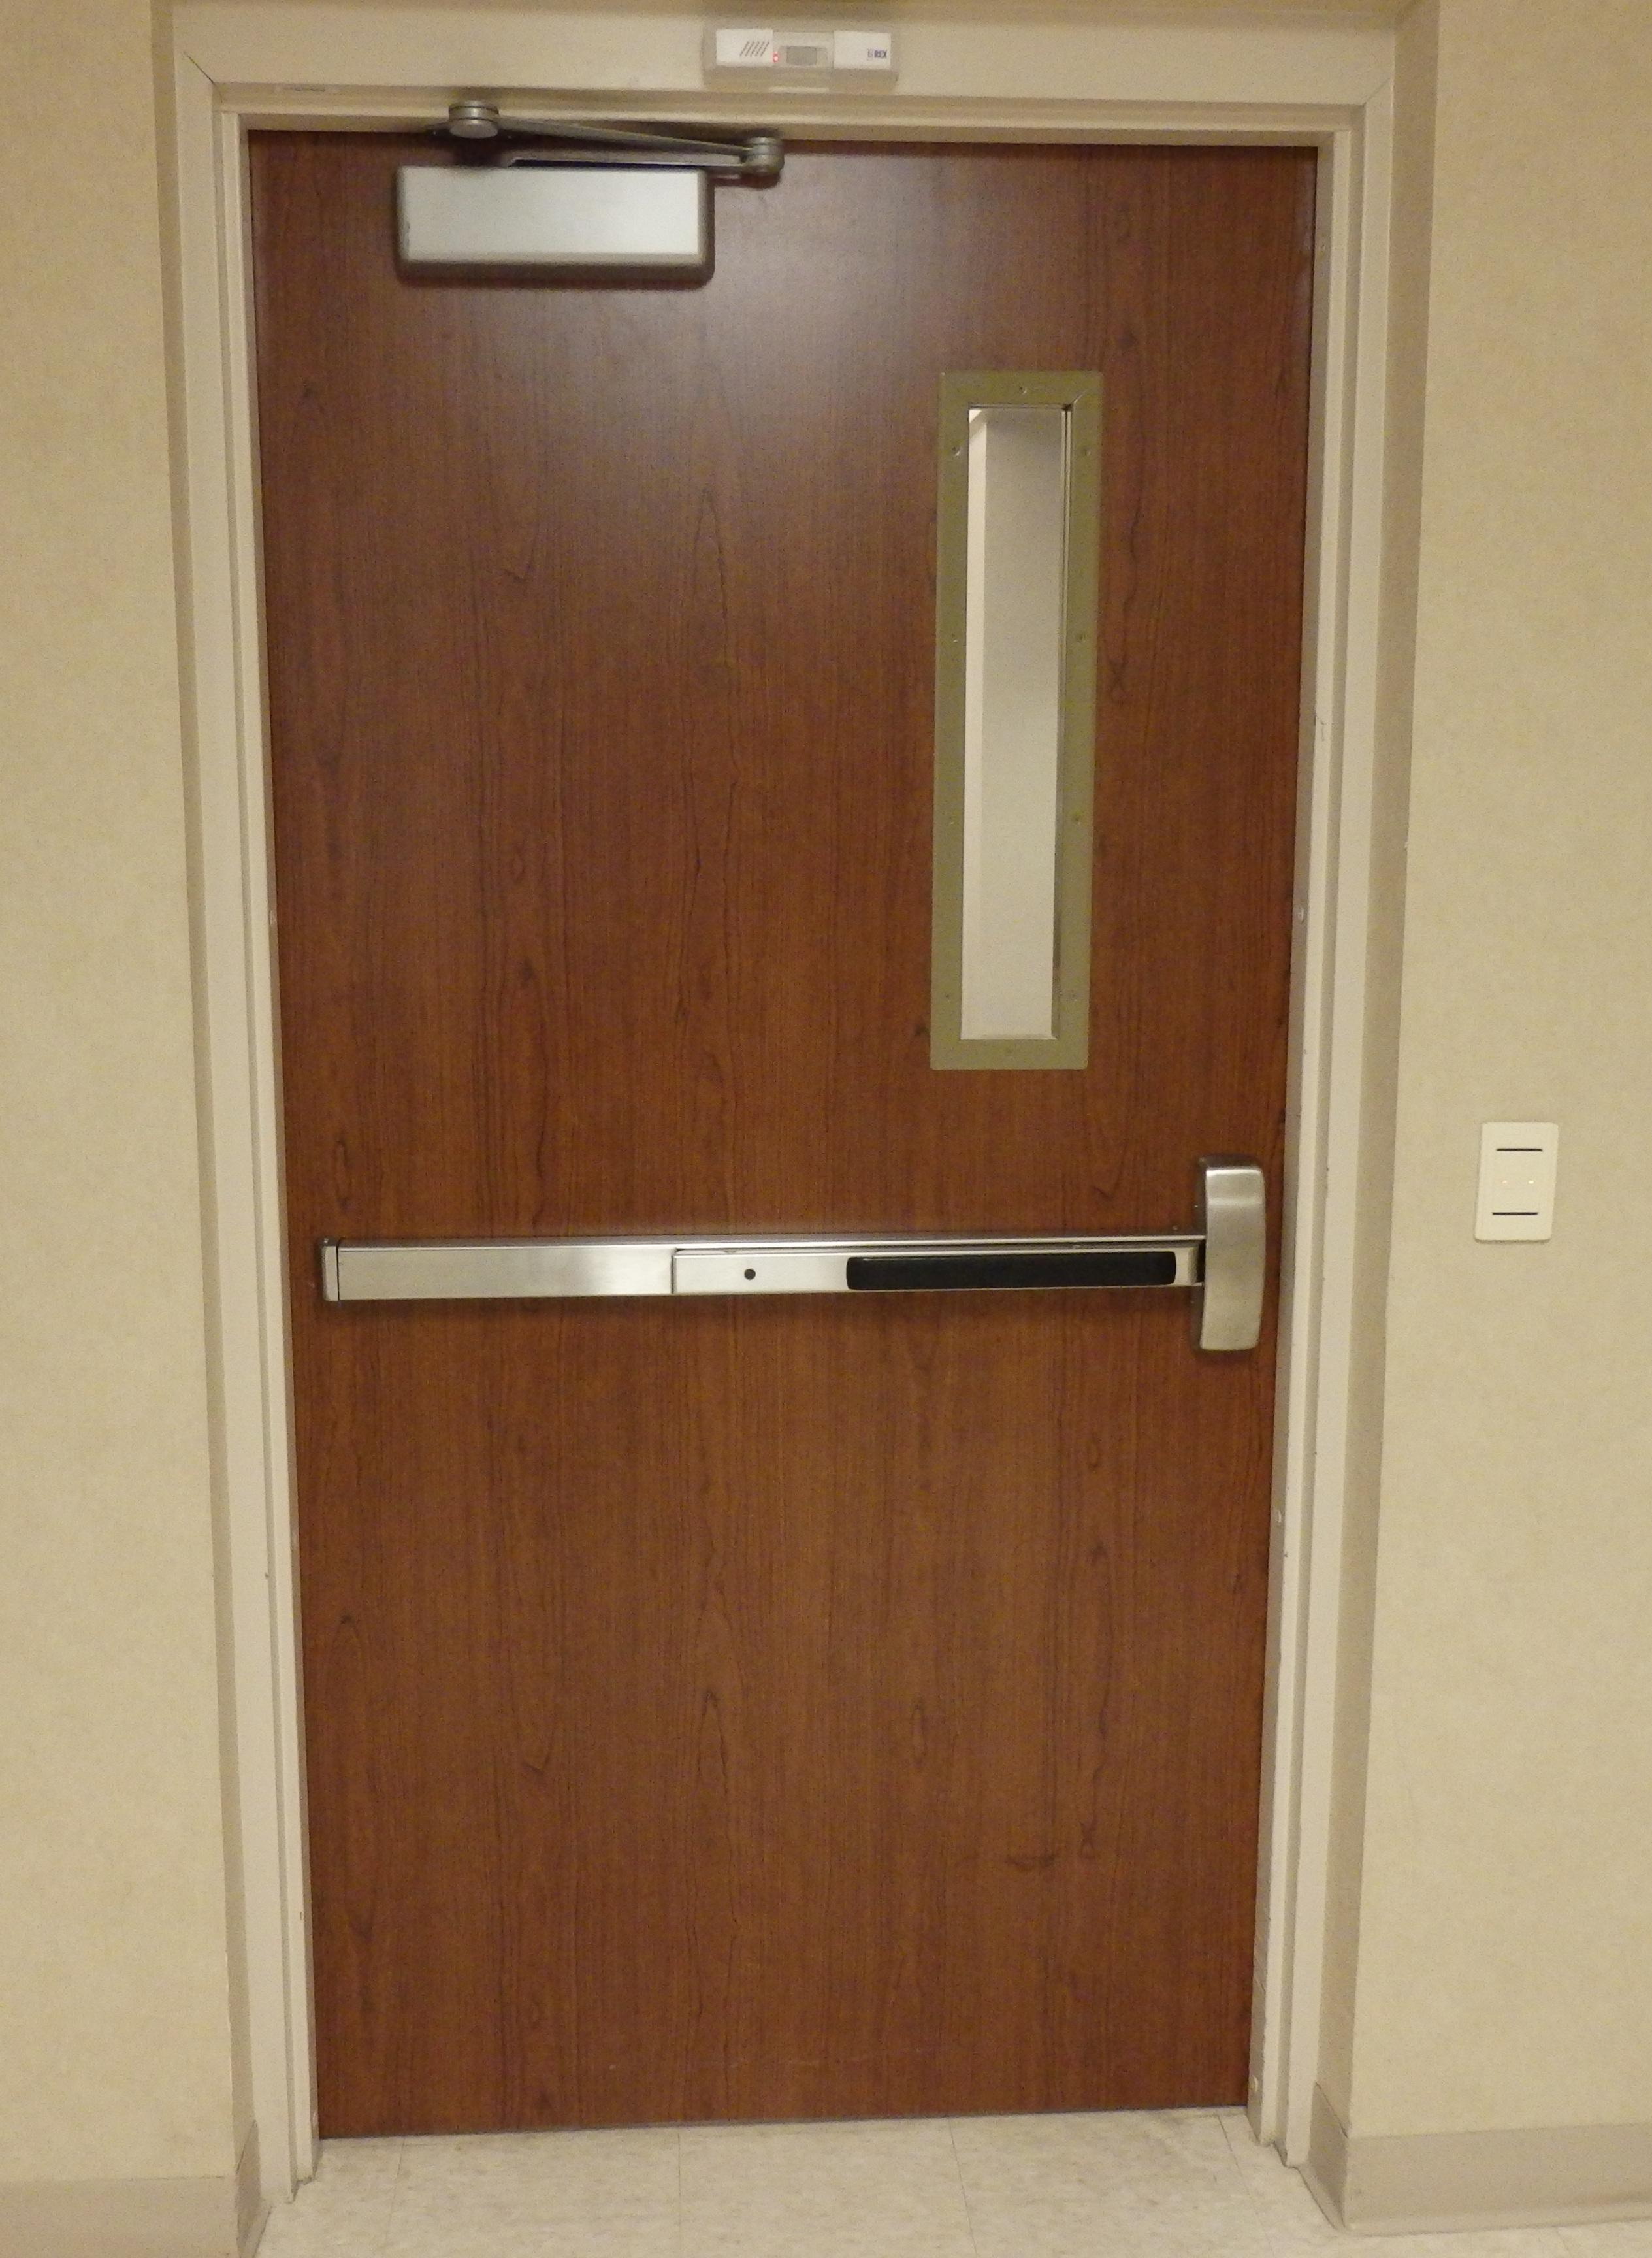door: (182, 58, 1337, 2111)
